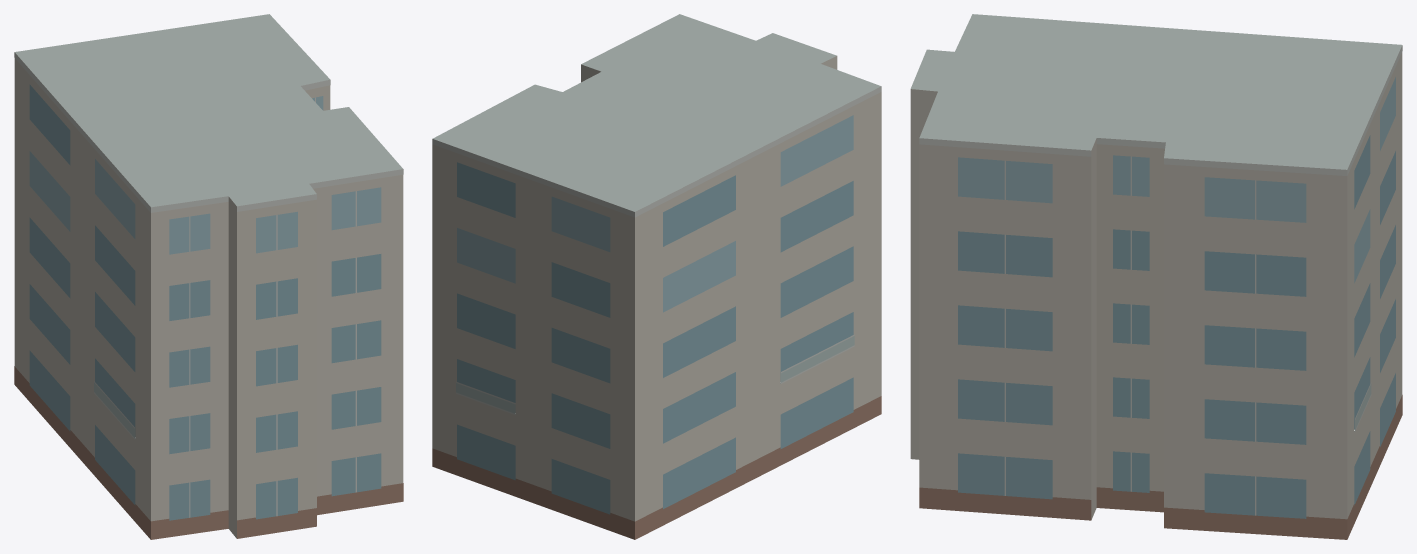
Rendered from survey-upis-32786079.glb.
3 views of the same model, side by side, from view 1: azimuth 30°, elevation 25°; view 2: azimuth 150°, elevation 25°; view 3: azimuth 270°, elevation 25° (orthographic). The views are drawn at different scales.
Parts seen in each view (by area): view 1: survey-upis-32786079.tmp; view 2: survey-upis-32786079.tmp; view 3: survey-upis-32786079.tmp.
Part boxes in pixels (<box>): survey-upis-32786079.tmp: <box>14,14,403,539</box>; survey-upis-32786079.tmp: <box>432,14,881,539</box>; survey-upis-32786079.tmp: <box>910,14,1402,539</box>.
Size of the model in its own units: 13.06 by 14.45 by 17.42.
